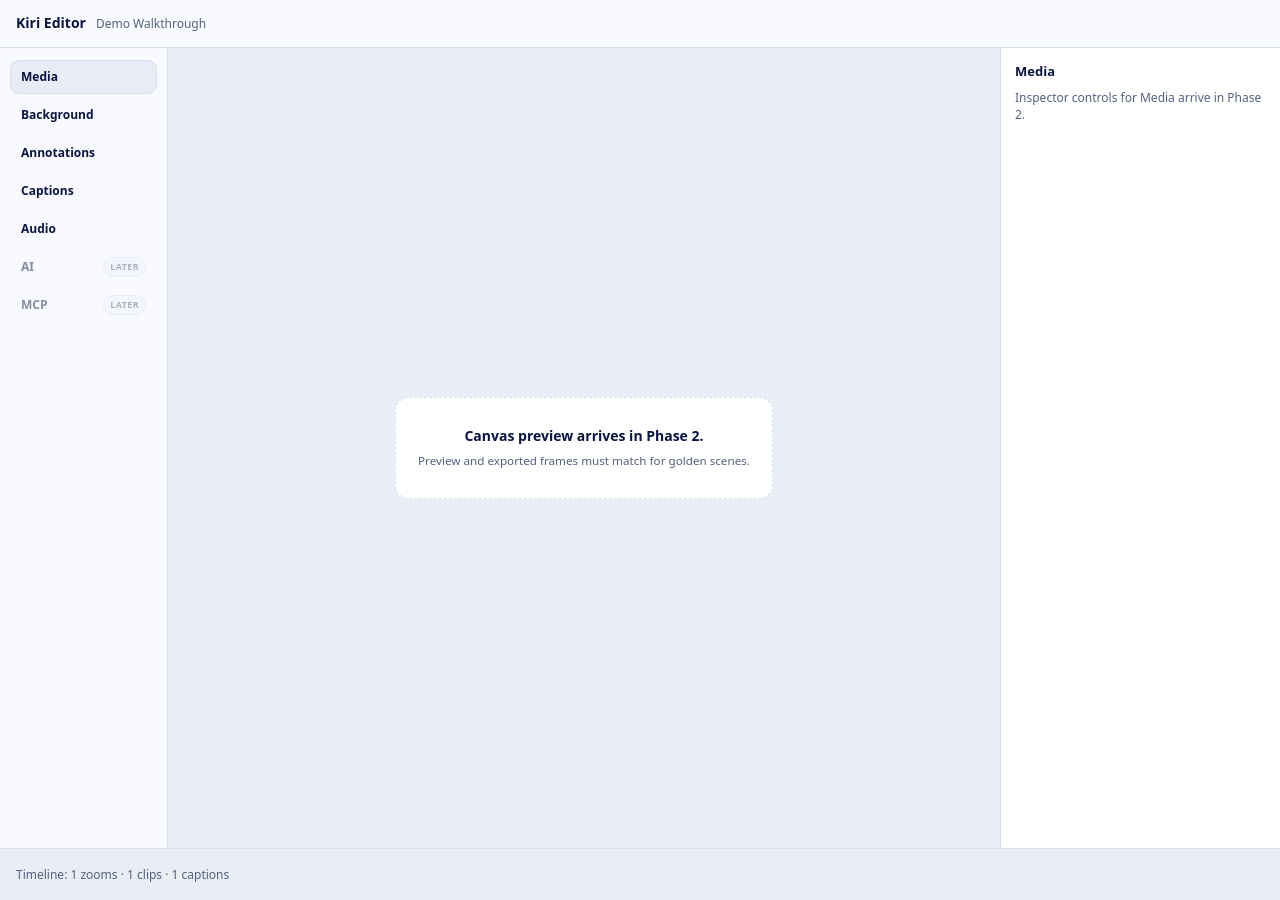
Test: EditorShell › switches inspector sections without touching disabled rails
Expected: the text "Demo Walkthrough" is shown, [96,15,206,32]
What coordinates should you click on to do the following:
click the button "Captions"
I would click on:
 (84, 191)
Its box is [10,174,157,208].
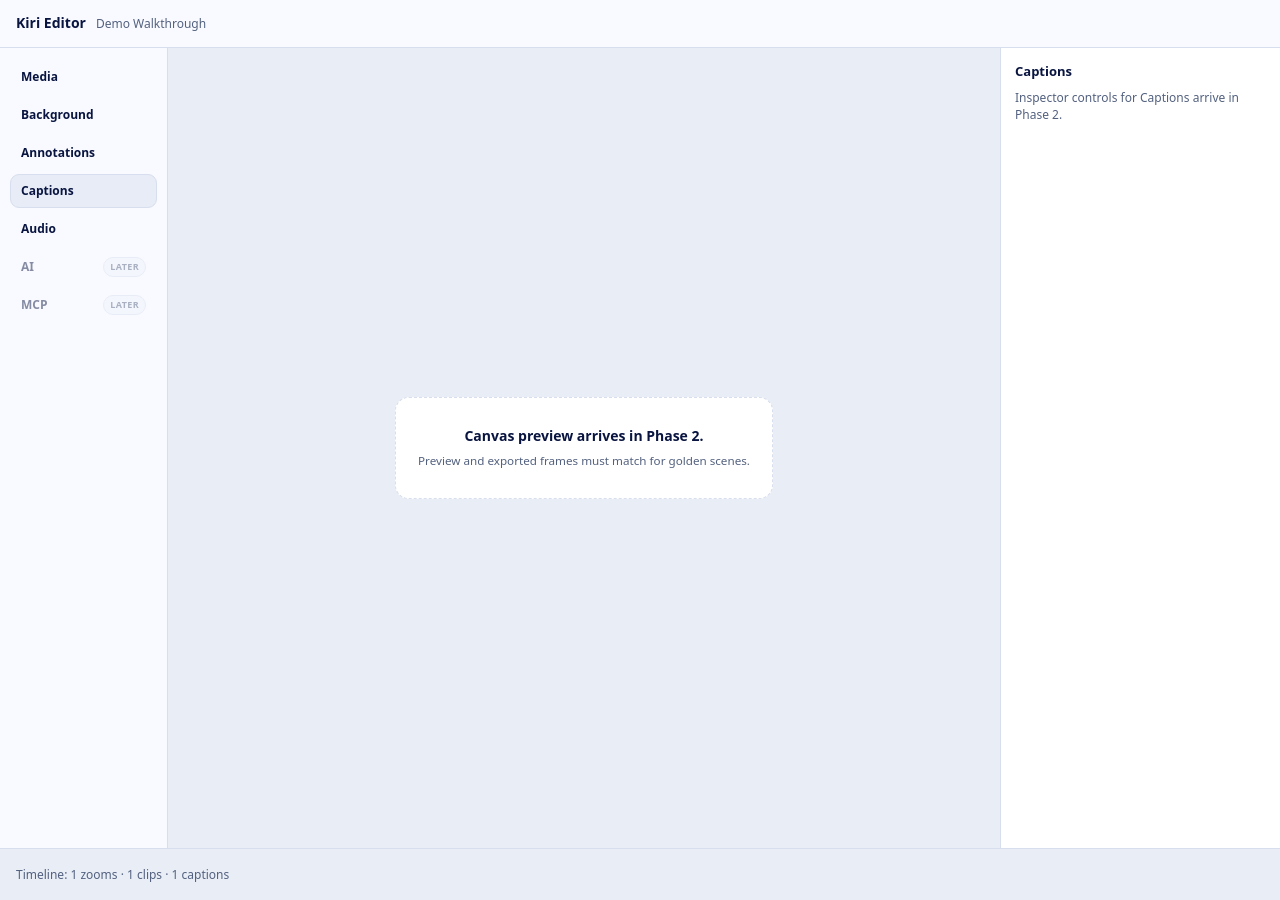
Now the heading "Captions" is shown, box [1015,62,1072,80]
Now the text "Inspector controls for Captions arrive in Phase 2." is shown, box [1015,89,1266,124]
